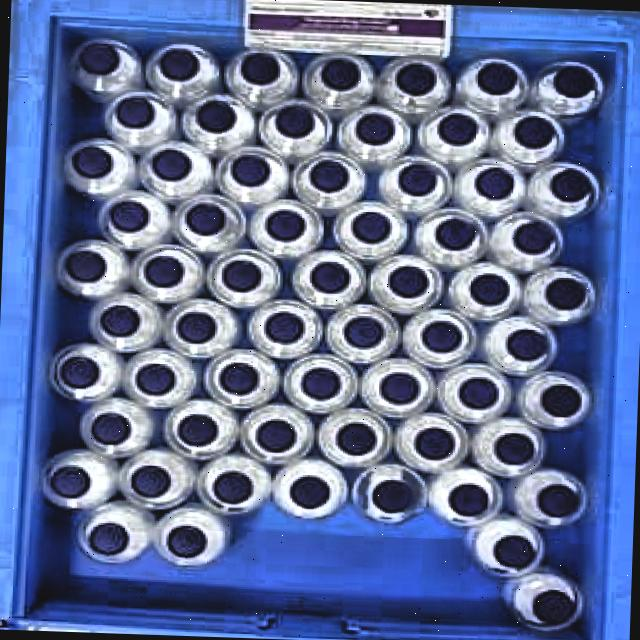vial: (546, 166, 596, 205), (260, 207, 311, 243), (391, 161, 440, 198), (538, 381, 584, 419), (132, 360, 178, 398), (285, 472, 332, 509), (511, 218, 558, 255), (454, 374, 501, 411), (86, 520, 131, 557), (175, 410, 220, 447), (491, 533, 537, 569), (252, 418, 299, 453), (434, 217, 482, 251), (532, 589, 576, 626), (165, 523, 210, 559), (308, 158, 353, 194), (342, 313, 387, 349), (533, 483, 579, 518), (173, 310, 219, 345), (505, 327, 551, 362), (149, 148, 196, 182), (62, 249, 109, 283), (512, 113, 556, 149), (476, 61, 520, 97), (308, 259, 352, 295), (543, 276, 587, 312), (370, 478, 415, 513), (71, 144, 116, 179), (473, 166, 518, 201), (262, 310, 307, 345), (467, 272, 512, 307), (58, 356, 103, 391), (142, 255, 188, 289), (418, 320, 464, 354), (448, 481, 491, 517), (212, 469, 255, 505), (490, 432, 534, 467), (48, 464, 92, 499), (195, 99, 239, 134), (393, 62, 437, 97), (434, 111, 479, 145), (553, 65, 598, 99), (98, 304, 144, 337), (351, 209, 393, 245), (107, 199, 150, 234), (386, 264, 429, 299), (218, 361, 261, 396), (74, 43, 118, 77), (412, 427, 457, 460), (240, 52, 282, 87), (184, 201, 226, 236), (89, 411, 132, 445), (377, 371, 420, 405), (355, 111, 395, 147), (335, 421, 376, 456), (274, 103, 315, 138), (319, 56, 360, 91), (158, 47, 200, 81), (221, 259, 263, 293), (300, 366, 341, 400), (130, 465, 172, 498), (113, 95, 153, 129), (231, 155, 271, 188)
